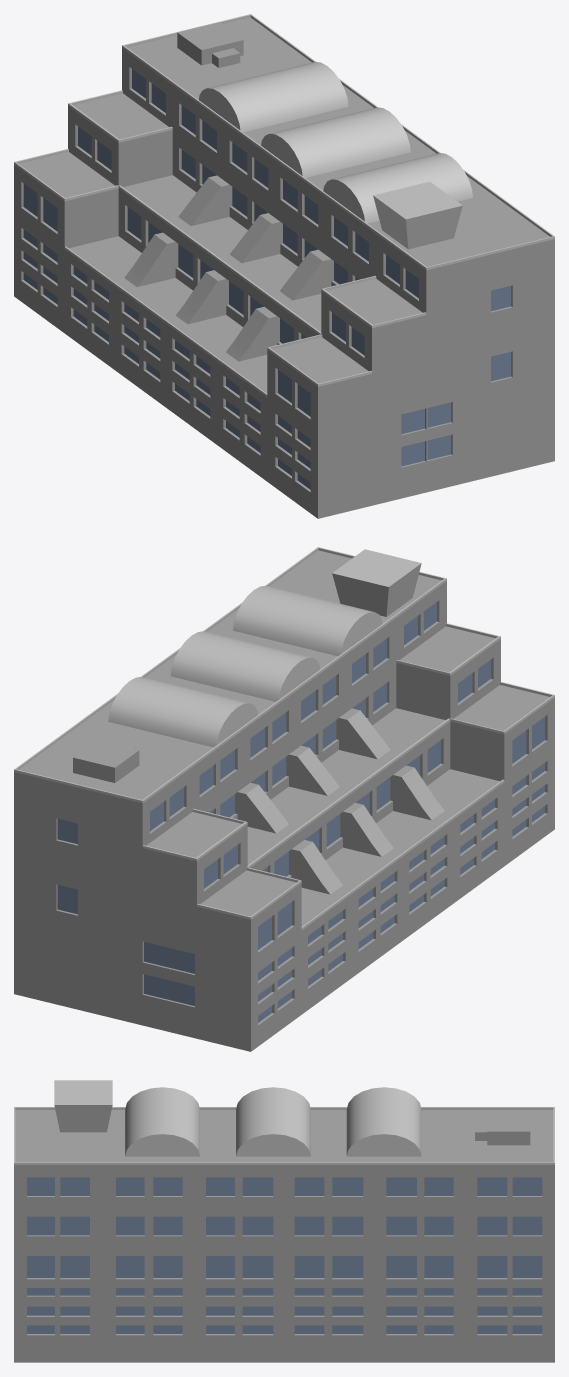
Rendered from SpecialBuilding19.fbx.
3 views of the same model, one above another, from view 1: azimuth 30°, elevation 25°; view 2: azimuth 150°, elevation 25°; view 3: azimuth 270°, elevation 25° (orthographic). The views are drawn at different scales.
Visible parts, largest first — view 1: SpecialBuilding19; view 2: SpecialBuilding19; view 3: SpecialBuilding19.
Boxes of the visible parts, bbox=[...] form: SpecialBuilding19: bbox=[14, 14, 554, 518]; SpecialBuilding19: bbox=[14, 547, 554, 1051]; SpecialBuilding19: bbox=[14, 1080, 554, 1362].
Size of the model in its own units: 5.64 by 5.82 by 12.53.
